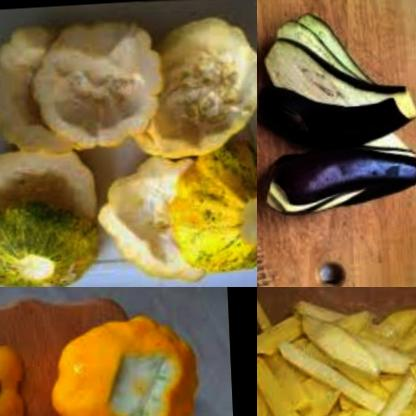eggplant: (257, 18, 416, 157), (257, 127, 416, 243)
potato: (257, 287, 416, 416)
squash-patisson: (139, 13, 257, 172), (36, 17, 166, 160), (93, 148, 226, 287), (48, 312, 205, 416), (169, 131, 257, 283), (0, 144, 102, 242), (0, 25, 69, 166), (0, 204, 97, 287), (0, 333, 36, 416)
